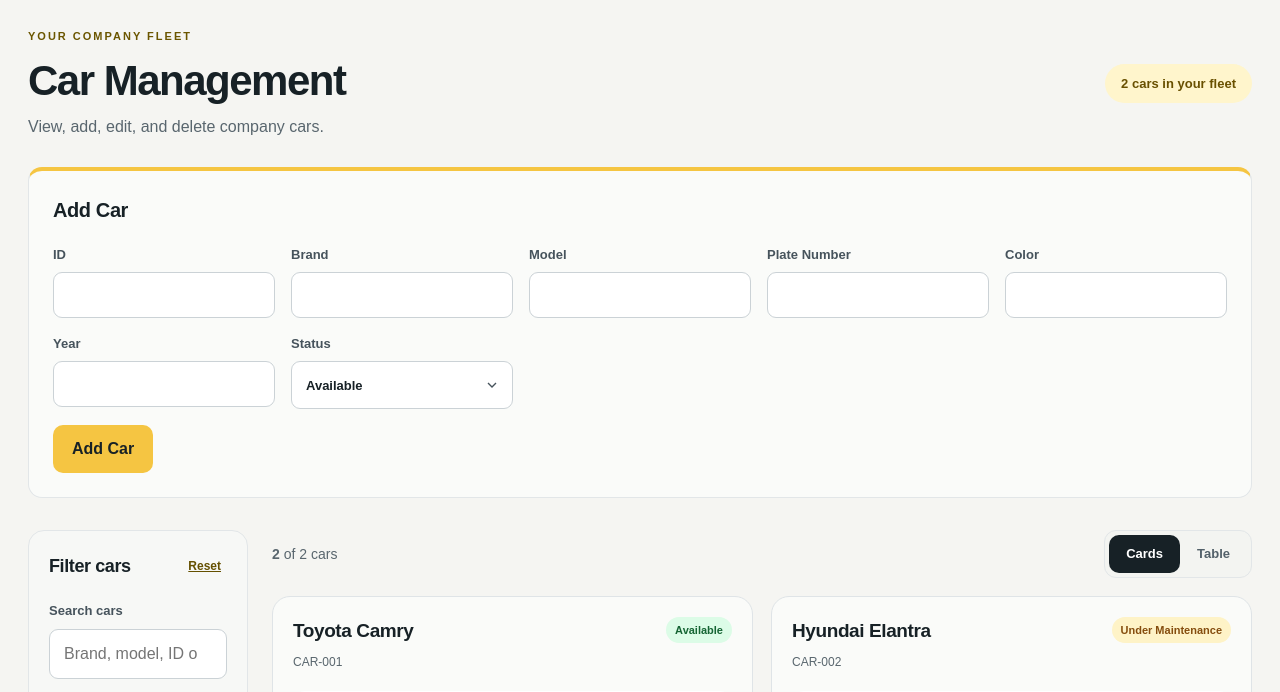
Test: searches by plate number without case sensitivity
Type "abc 1234" into the search field labelled "Search cars" at [138, 654], box [49, 629, 227, 679]
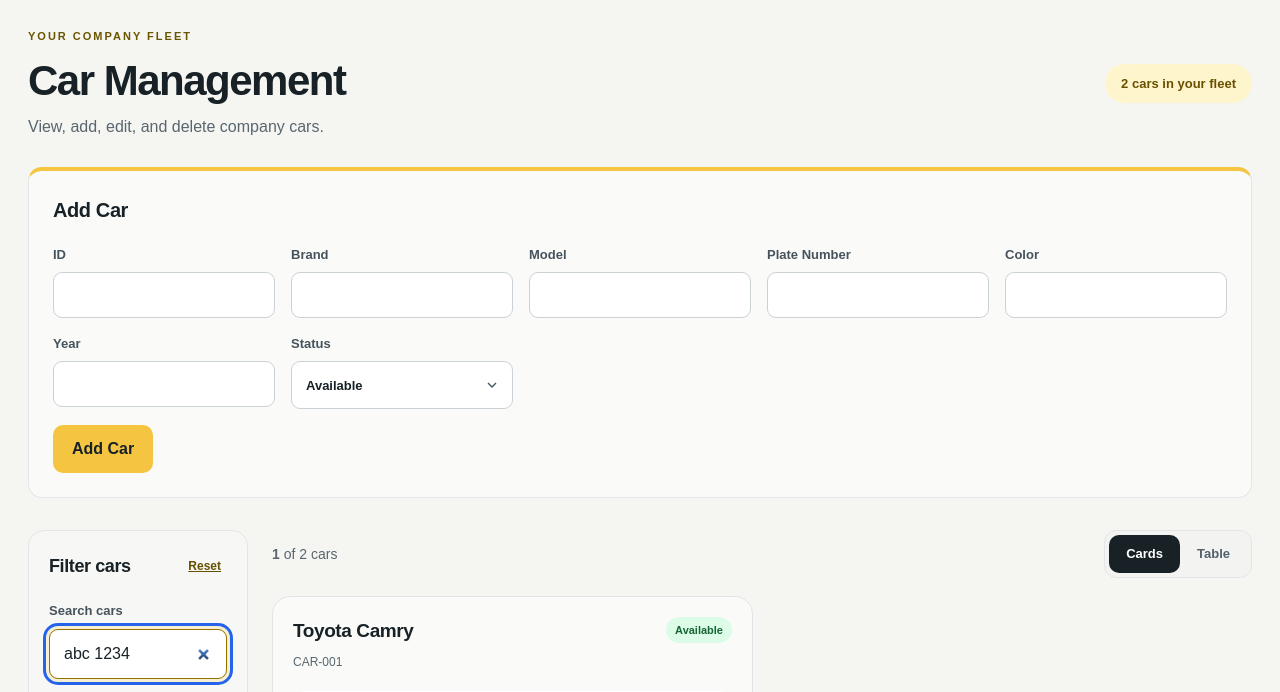
Check: the heading "Toyota Camry" is shown, box [293, 617, 414, 645]
Check: the heading "Hyundai Elantra" is gone
